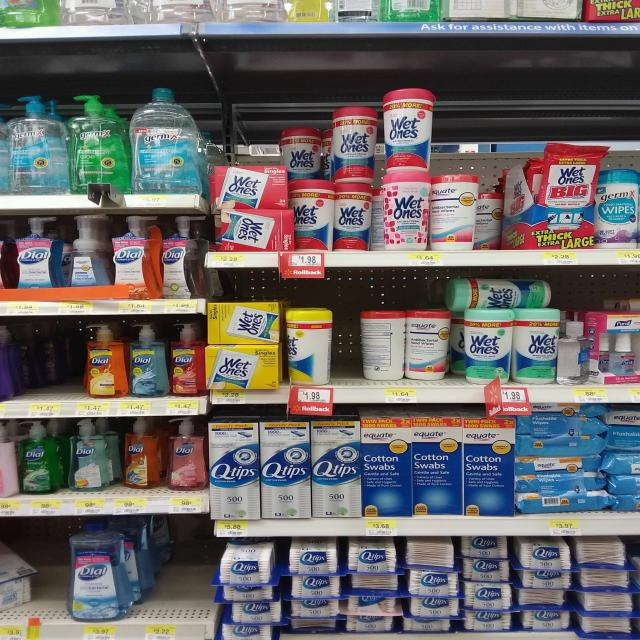void: (141, 523, 210, 640), (0, 520, 64, 640), (0, 322, 43, 418), (45, 321, 83, 416)
